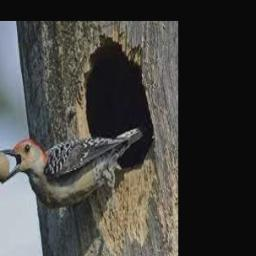Woodpecker: (0, 126, 143, 209)
